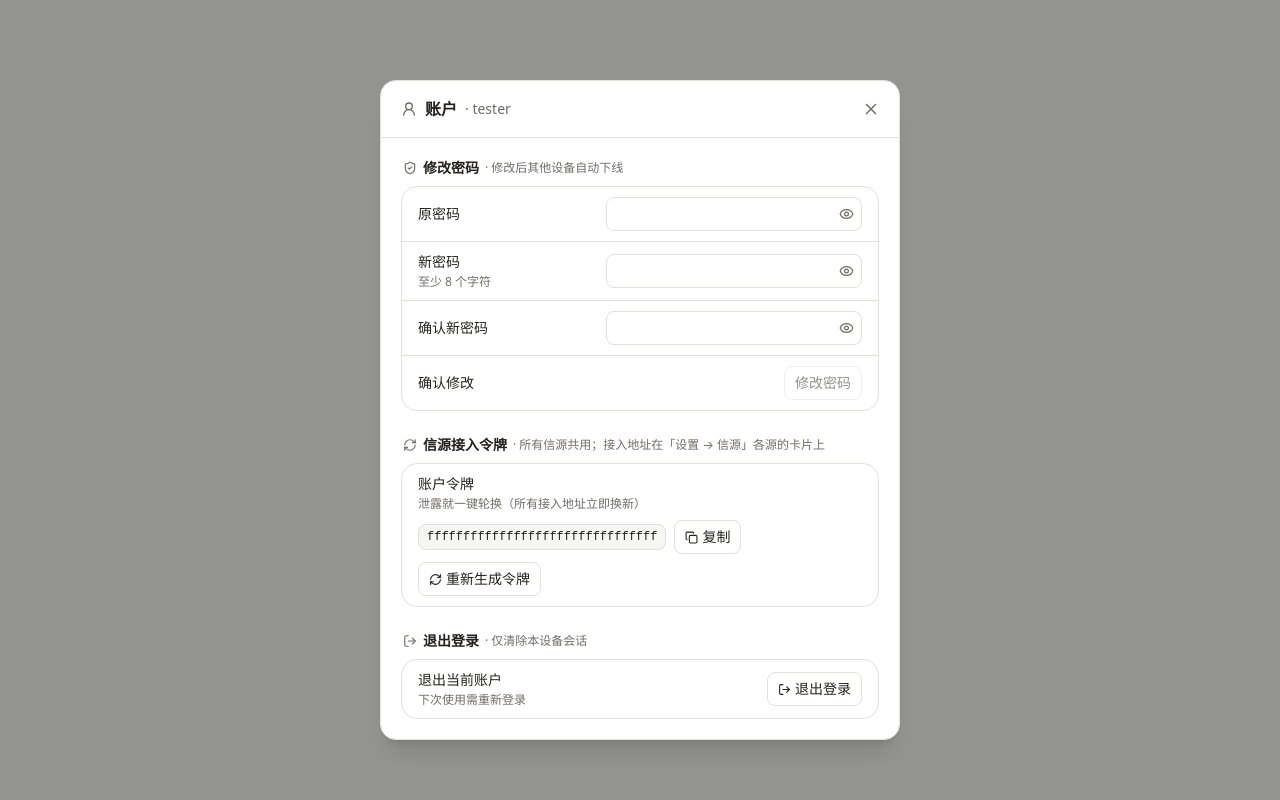
Test: 用户卡（006） › 两次新密码不一致：提示且不可提交
In the password field labelled "原密码": x=734, y=214 x1=606 y1=197 x2=862 y2=231, type "old-password"
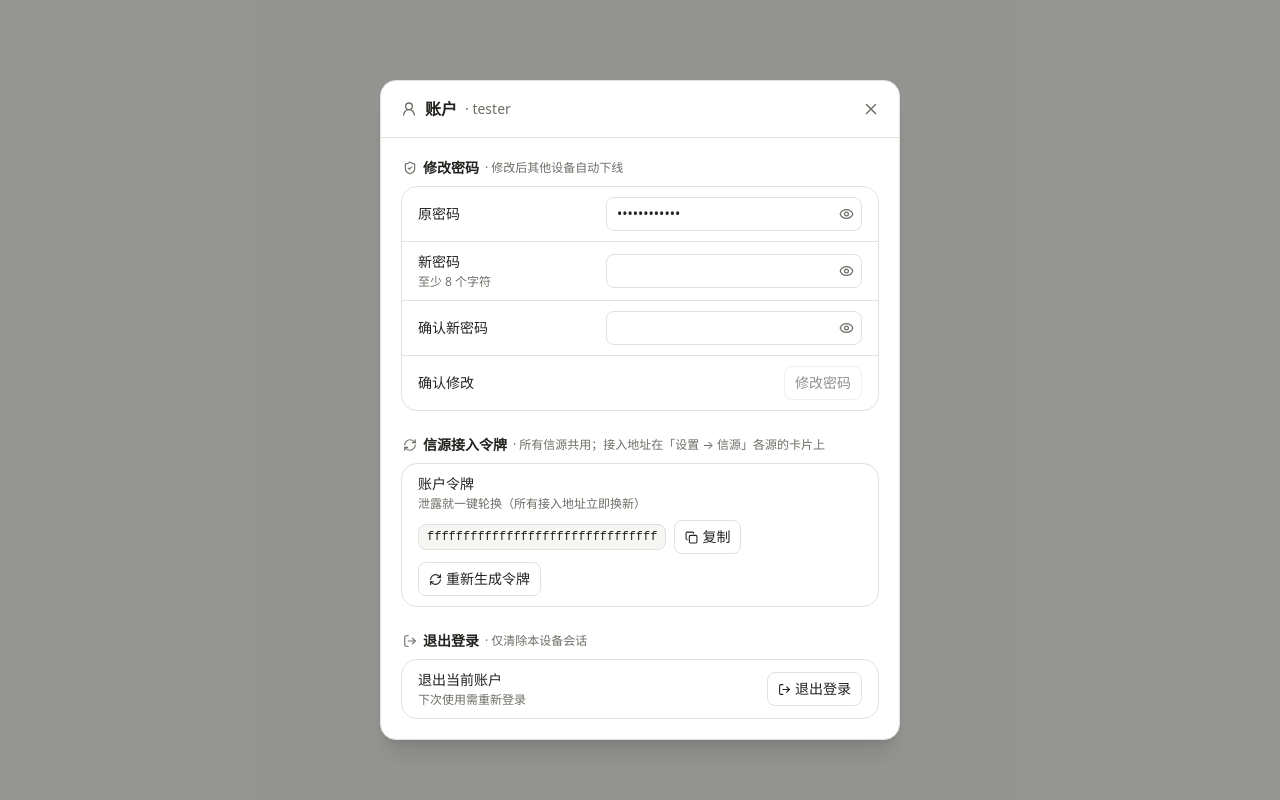
In the password field labelled "新密码": x=734, y=271 x1=606 y1=254 x2=862 y2=288, type "new-password-1"
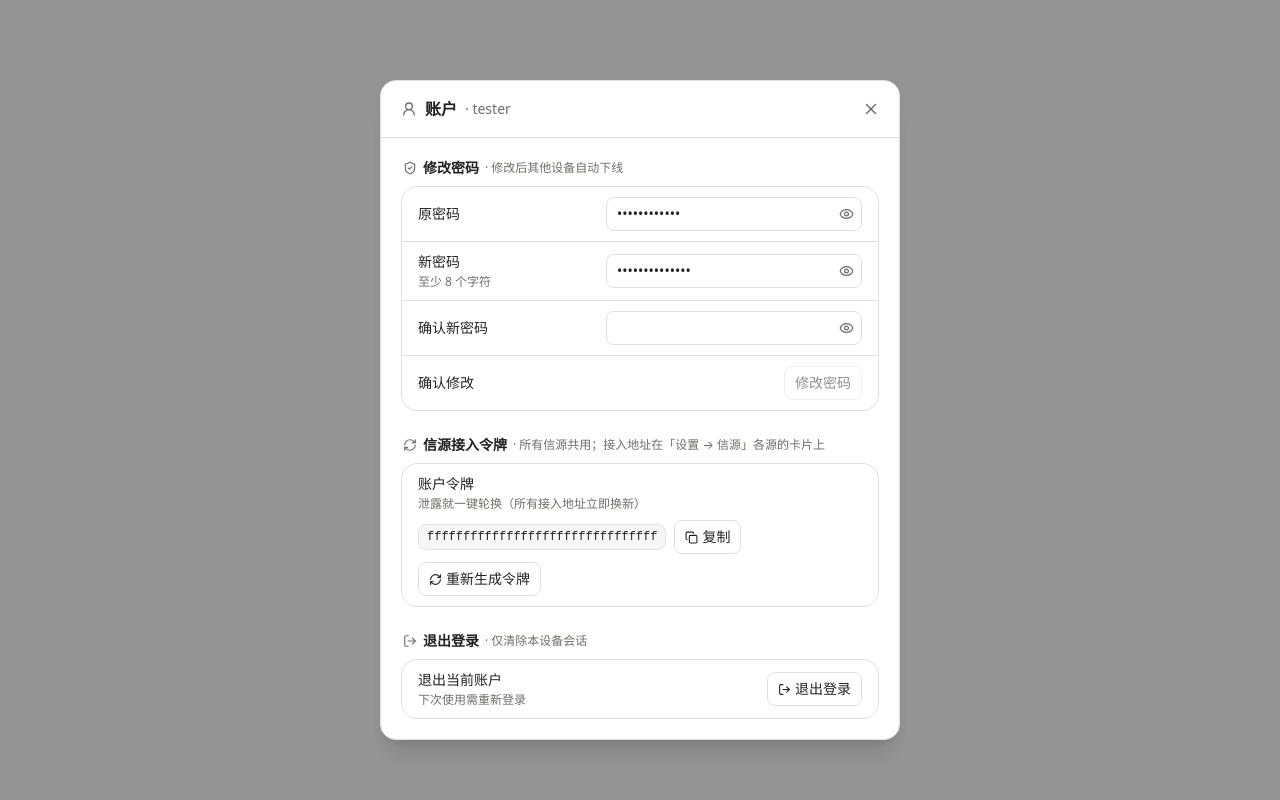
In the password field labelled "确认新密码": x=734, y=328 x1=606 y1=311 x2=862 y2=345, type "differs-here"
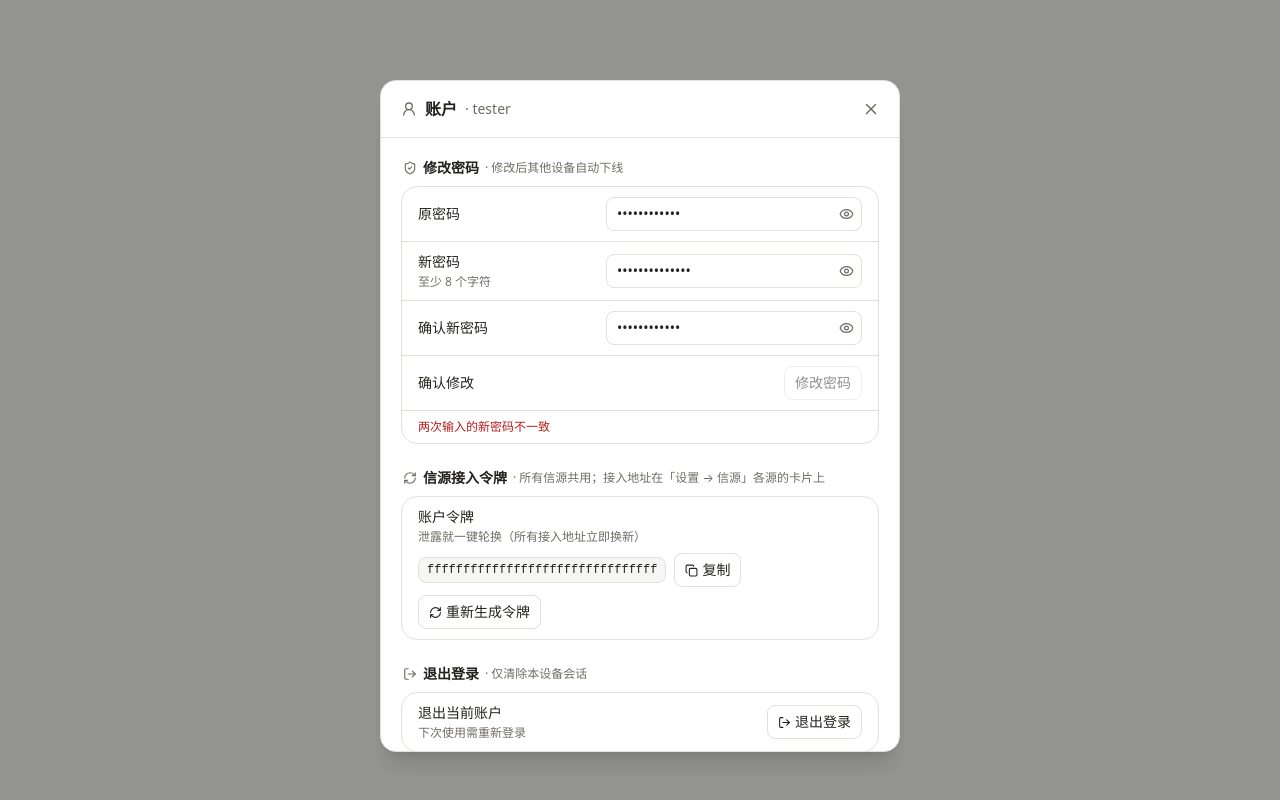
Check: the button "修改密码" is disabled, box x1=784 y1=366 x2=862 y2=400
Check: the text "两次输入的新密码不一致" is shown, box x1=418 y1=418 x2=550 y2=435
